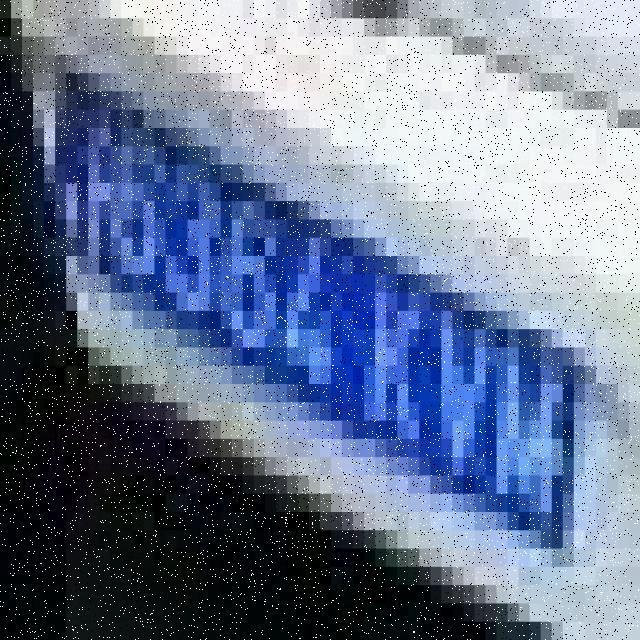LicensePlate: (20, 13, 606, 611)
